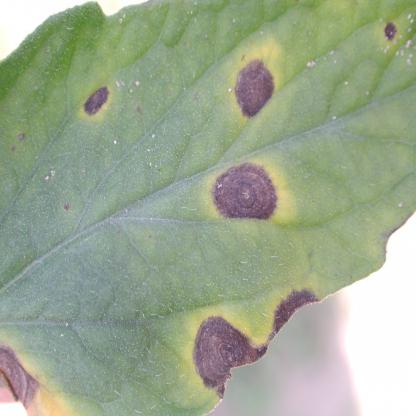tomato early blight leaf: (1, 7, 413, 410)
